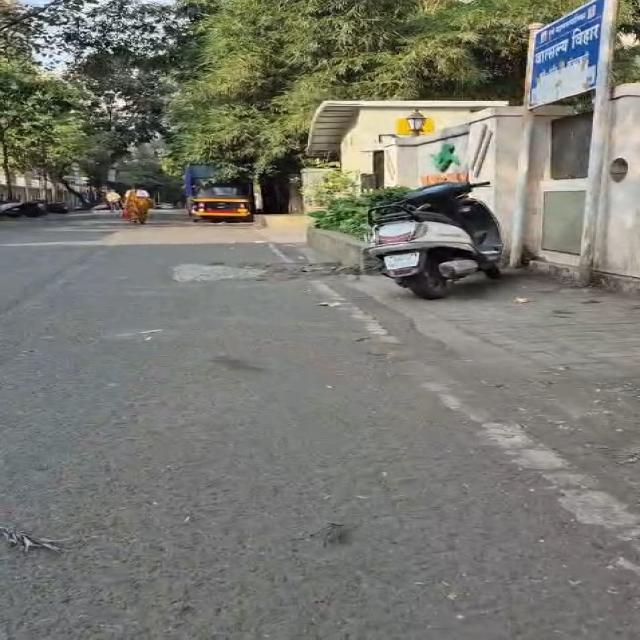bike: (367, 183, 503, 299), (579, 0, 618, 285), (509, 23, 543, 266), (125, 185, 151, 224), (106, 189, 121, 210)
